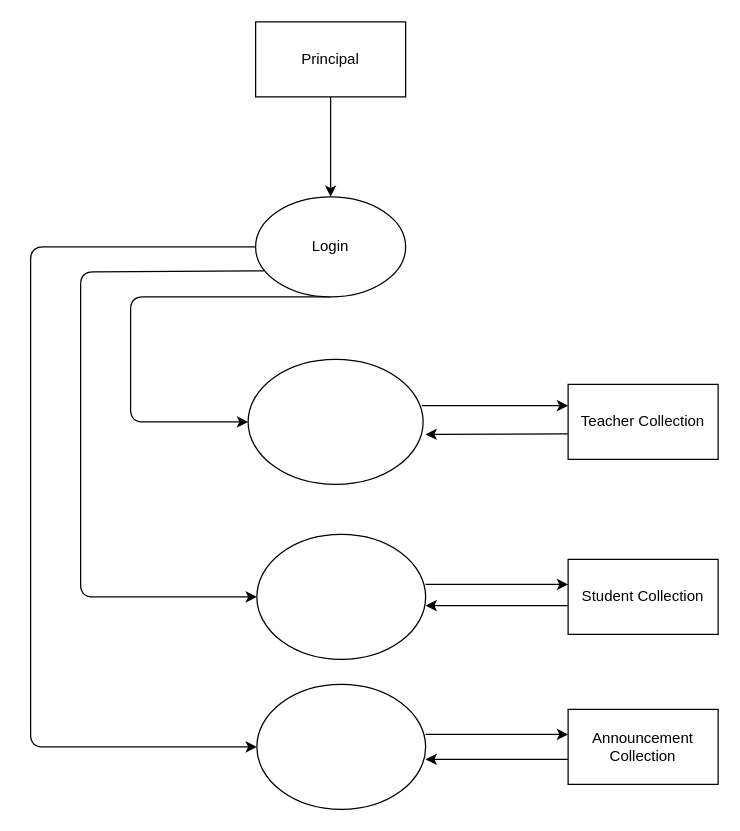
Some shapes in this 740 by 831 pixel diagram are drawn without their labels. Here are the shapes that lost their labels. From the top down, the centre of each, then its label:
point (335, 421): Add, View, Update, Delete Teacher
point (341, 596): Add, View, Update, Delete Student
point (341, 746): Add, View, Delete, Edit, Announcements
